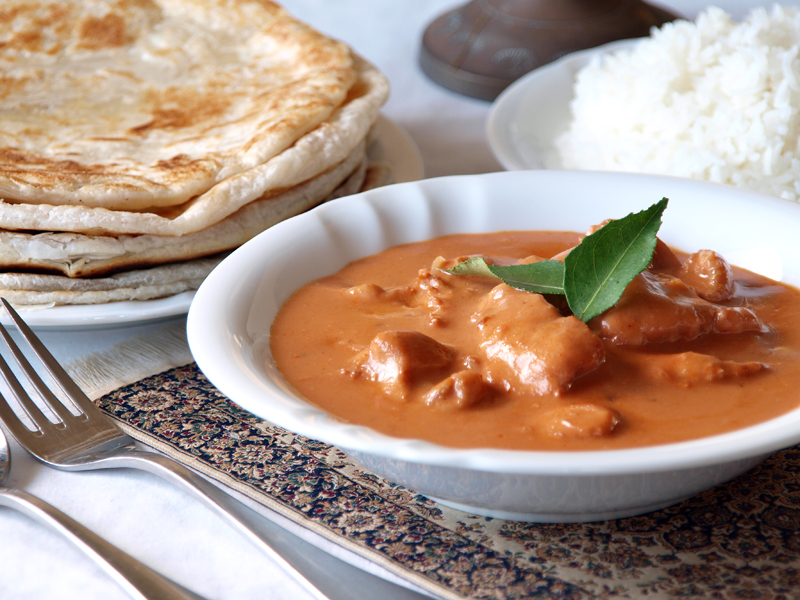butter_chicken: (271, 214, 795, 444)
